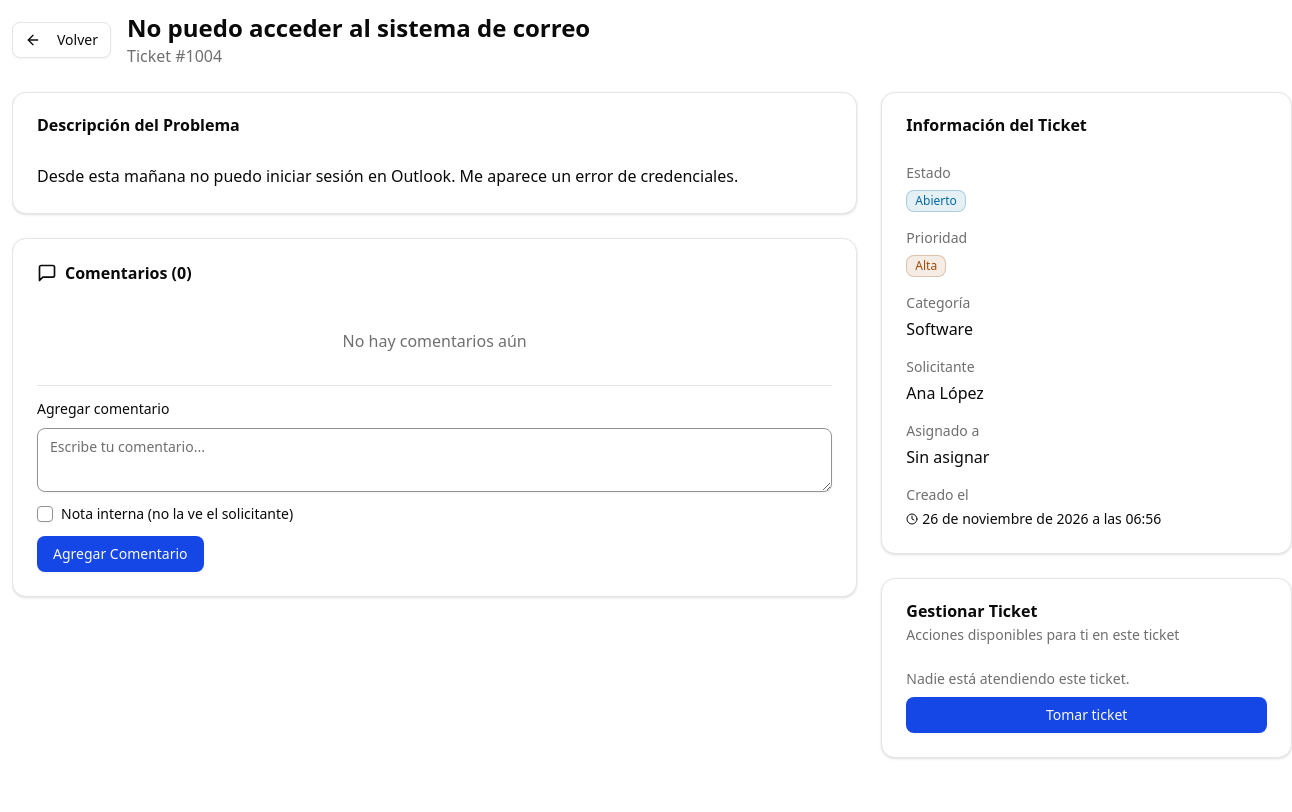
Scenario: TicketDetail › lets an agent take an unassigned ticket
Click the button "Tomar ticket" at (1087, 715), box [906, 697, 1267, 733]
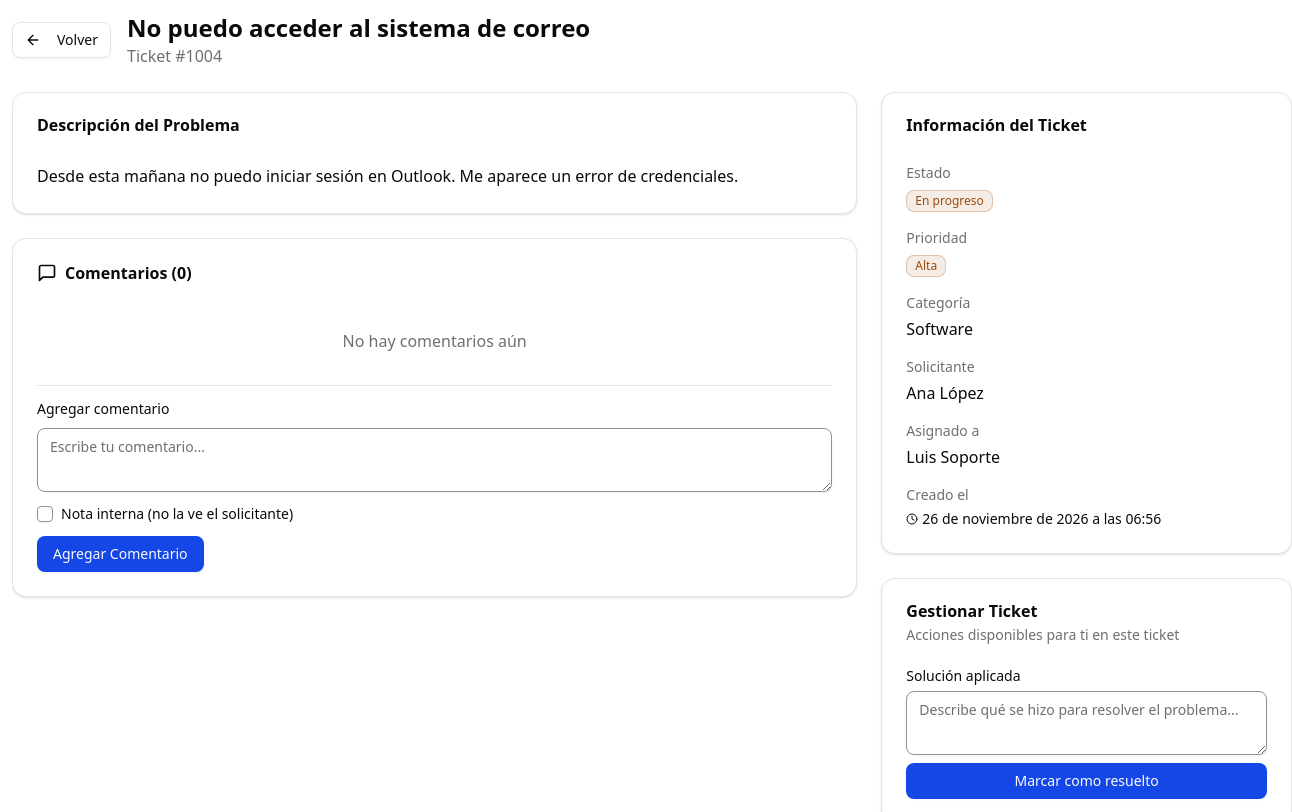
expect the text "Luis Soporte" is shown: met, box [906, 446, 1000, 468]
expect the text "En progreso" is shown: met, box [906, 190, 993, 212]
